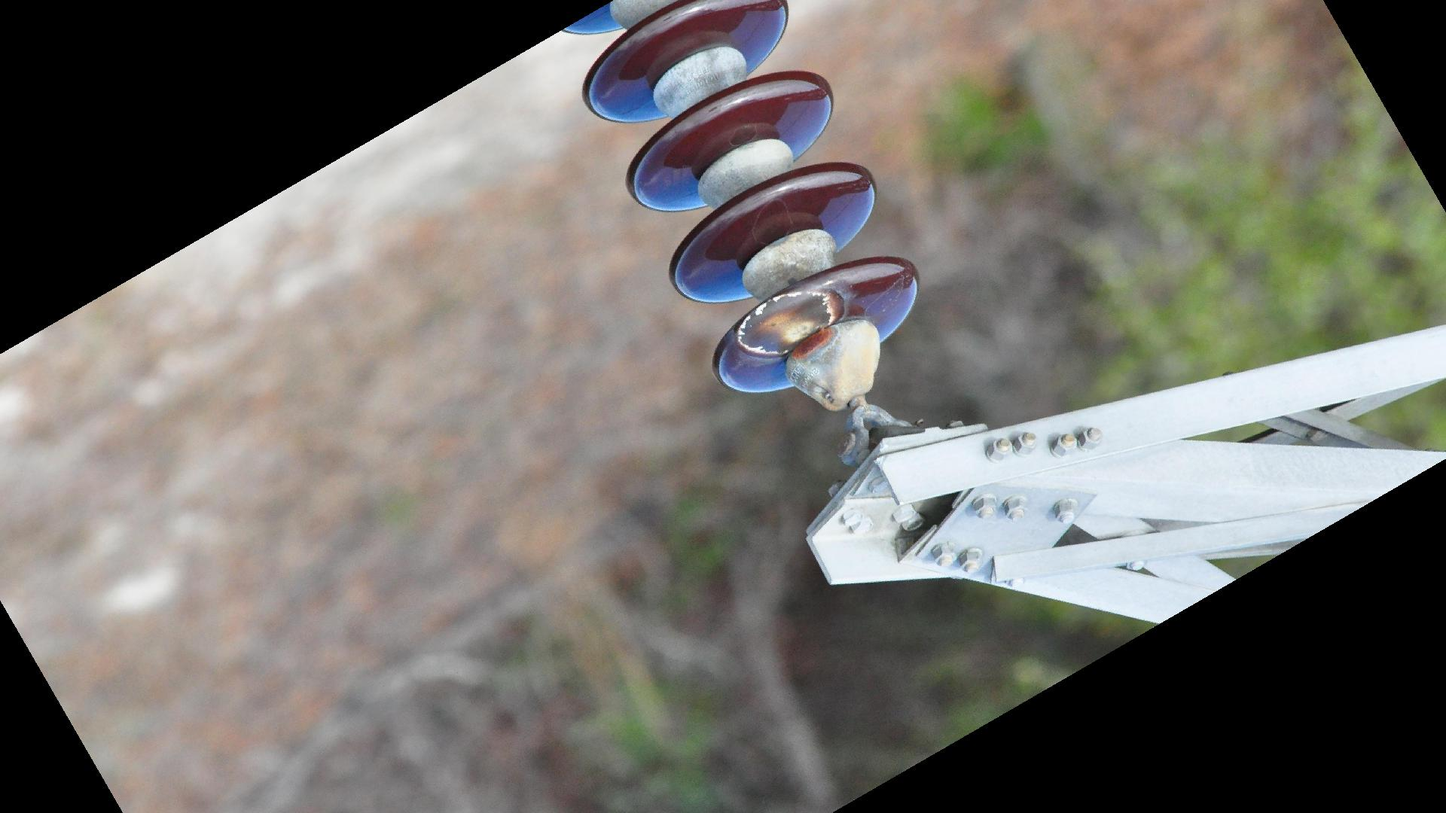insulator: (559, 1, 926, 400)
insulator_flashover: (734, 288, 838, 361)
